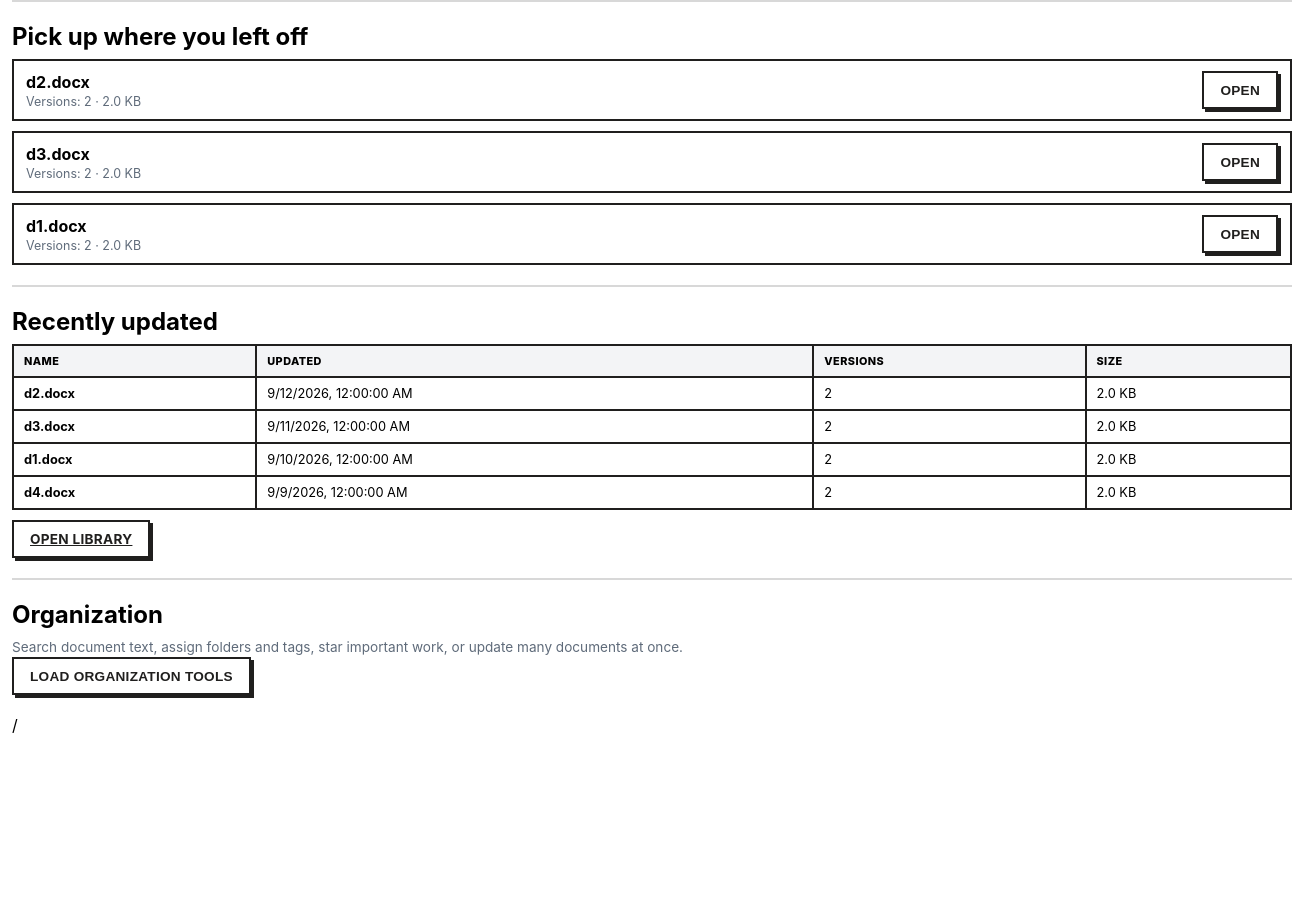
Test case: WorkspaceSection › lists the three most recently opened documents and opens one
What coordinates should you click on to do the following:
click the 1st button "Open"
I would click on:
 (1240, 90)
Its box is [1202, 71, 1278, 109].
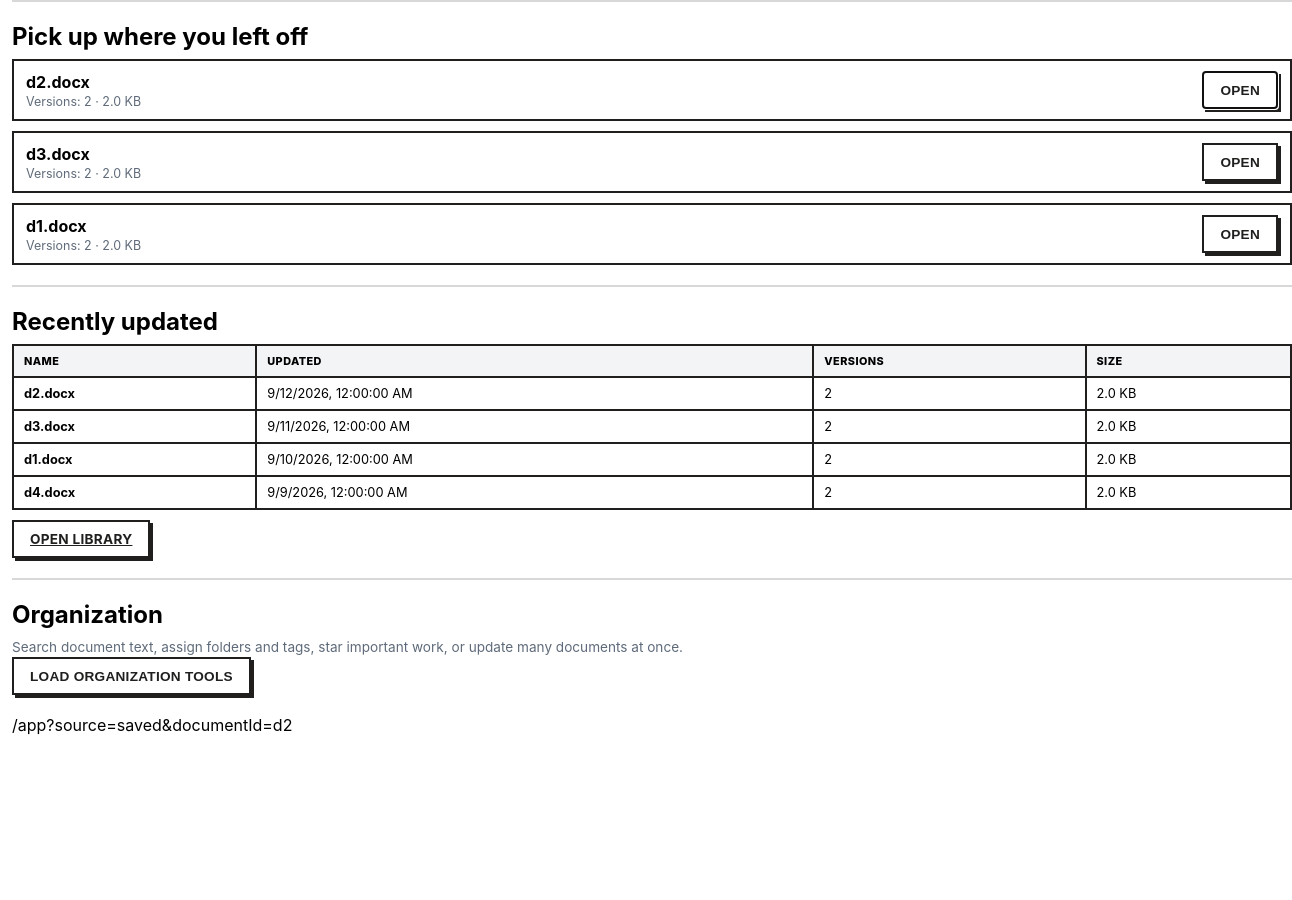
expect the text with test id "location" reads "/app?source=saved&documentId=d2": met, box [12, 715, 292, 735]
